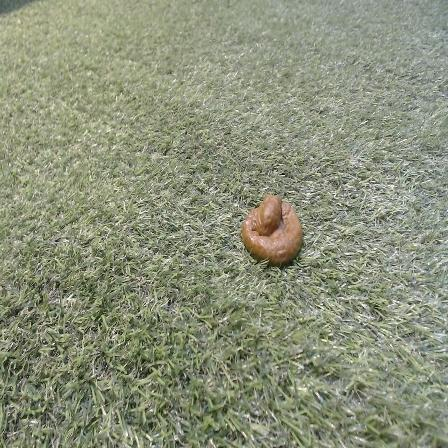dog-poop: (242, 193, 306, 269)
